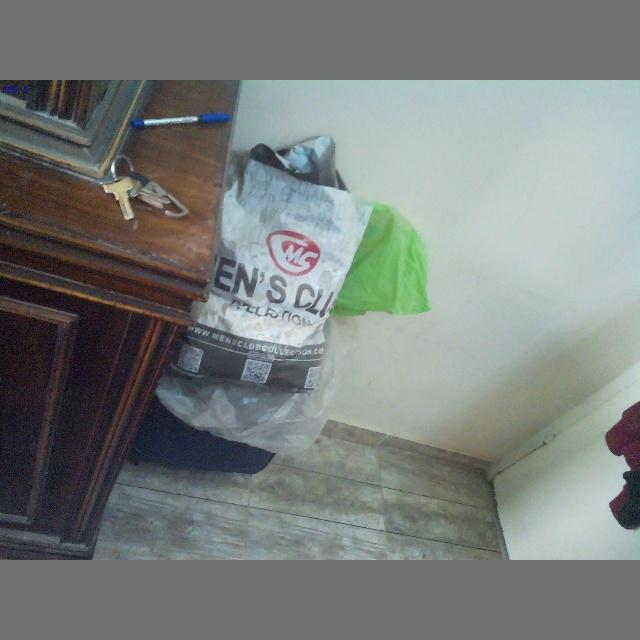Keys: (96, 147, 204, 236)
